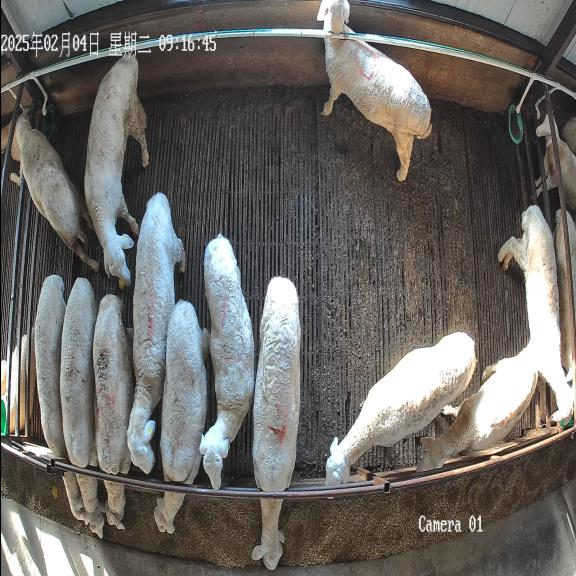drinking: (11, 112, 98, 270)
eating: (253, 275, 301, 571), (152, 300, 209, 534), (35, 275, 87, 523), (60, 278, 109, 533), (93, 294, 135, 530)
stand: (326, 332, 476, 485), (317, 0, 431, 180), (498, 205, 574, 423), (127, 192, 185, 474), (417, 348, 538, 471), (84, 55, 148, 287), (199, 234, 254, 488)
